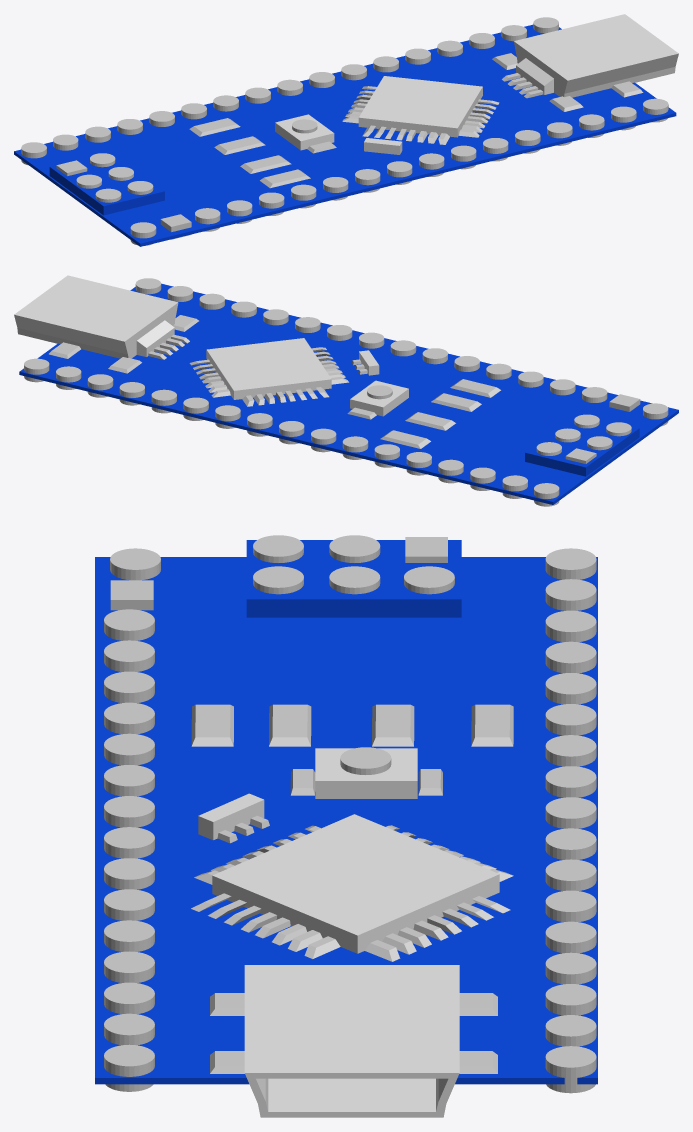
Rendered from ARTest.glb.
3 renders of one model, top to bottom at view 1: azimuth 30°, elevation 25°; view 2: azimuth 150°, elevation 25°; view 3: azimuth 270°, elevation 25°, orthographic. The views are drawn at different scales.
Parts seen in each view (by area): view 1: Plane; view 2: Plane; view 3: Plane.
Part boxes in pixels (x1,y1,x2,y2): Plane: [14, 14, 678, 246]; Plane: [14, 275, 678, 506]; Plane: [95, 535, 597, 1117].
Size of the model in its own units: 2.28 by 0.1116 by 0.8643.
